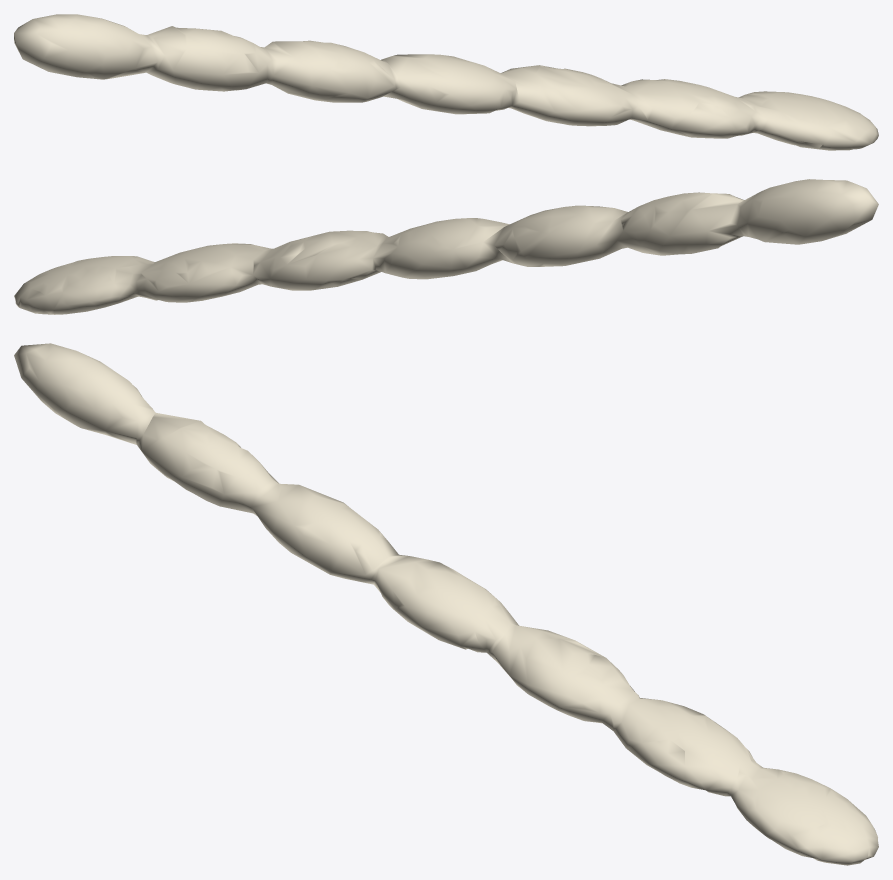
Rendered from sternum.glb.
3 renders of one model, top to bottom at view 1: azimuth 30°, elevation 25°; view 2: azimuth 150°, elevation 25°; view 3: azimuth 330°, elevation 25°, orthographic.
Visible parts, largest first — view 1: geometry_0; view 2: geometry_0; view 3: geometry_0.
Part boxes in pixels (x1,y1,x2,y2): geometry_0: (14,14,878,150); geometry_0: (14,179,878,314); geometry_0: (14,343,878,865).
Size of the model in its own units: 1.16 by 0.4096 by 0.1405.
